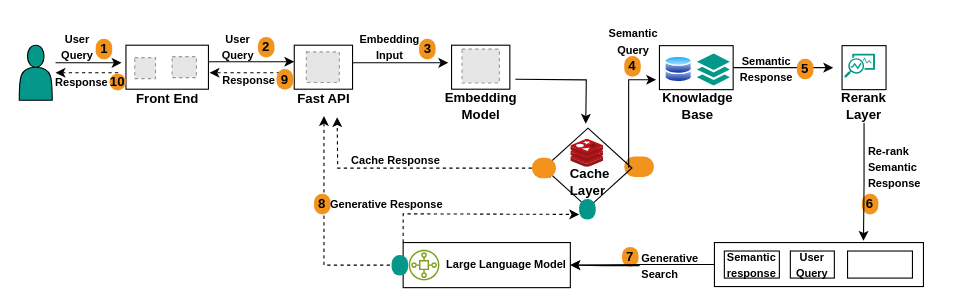
This 963x307 diagram has some shape labels left out. Grey dashed boxes stand in for pictures. Each missing label, with the box of its shape:
Generative Prompt: (846, 250, 912, 278)
No: (624, 156, 653, 176)
yes: (531, 157, 556, 178)
